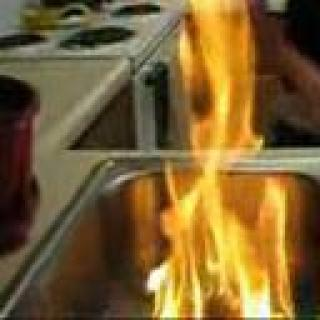fire: (132, 0, 293, 315)
